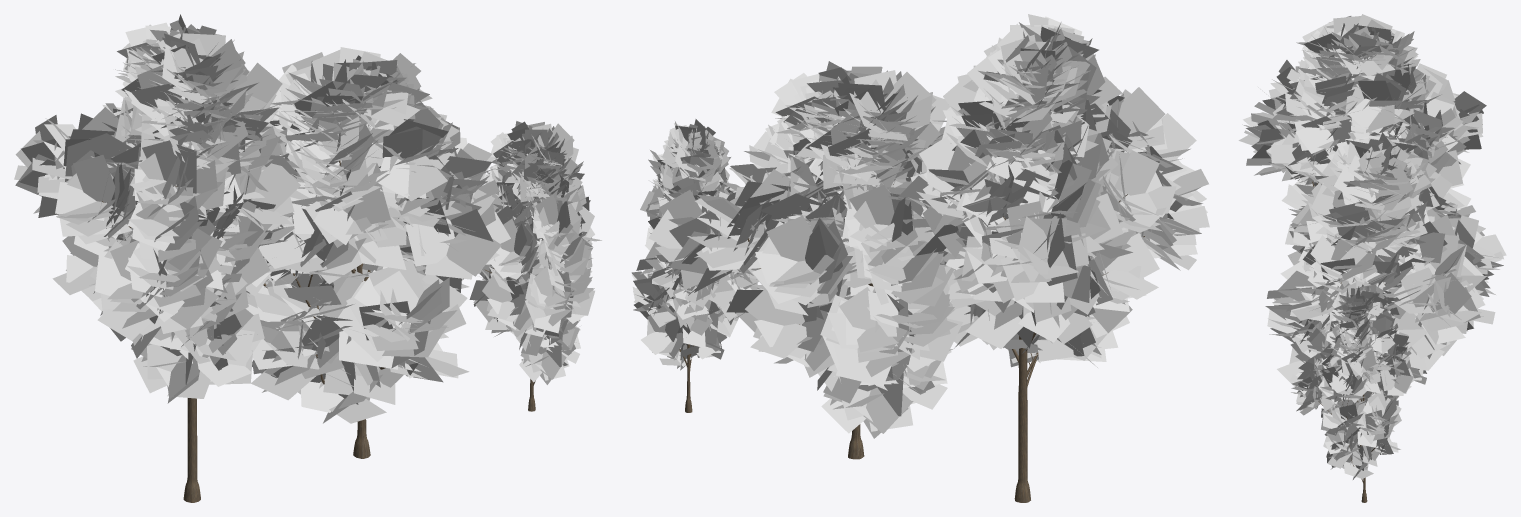
The model's file is Tall_Trees_2B.fbx.
3 views of the same model, side by side, from view 1: azimuth 30°, elevation 25°; view 2: azimuth 150°, elevation 25°; view 3: azimuth 270°, elevation 25° (orthographic). The views are drawn at different scales.
Visible parts, largest first — view 1: Tall_Tree_2B1, Tall_Tree_2B2, Tall_Tree_2B3; view 2: Tall_Tree_2B1, Tall_Tree_2B2, Tall_Tree_2B3; view 3: Tall_Tree_2B2, Tall_Tree_2B1, Tall_Tree_2B3.
Part boxes in pixels (x1,y1,x2,y2): Tall_Tree_2B1: (14, 14, 300, 502); Tall_Tree_2B2: (245, 47, 510, 458); Tall_Tree_2B3: (462, 121, 601, 411); Tall_Tree_2B1: (888, 14, 1209, 502); Tall_Tree_2B2: (648, 61, 962, 459); Tall_Tree_2B3: (631, 119, 763, 412); Tall_Tree_2B2: (1265, 132, 1506, 386); Tall_Tree_2B1: (1238, 14, 1486, 265); Tall_Tree_2B3: (1290, 280, 1414, 502).
Size of the model in its own units: 3147 by 2686 by 1820.
